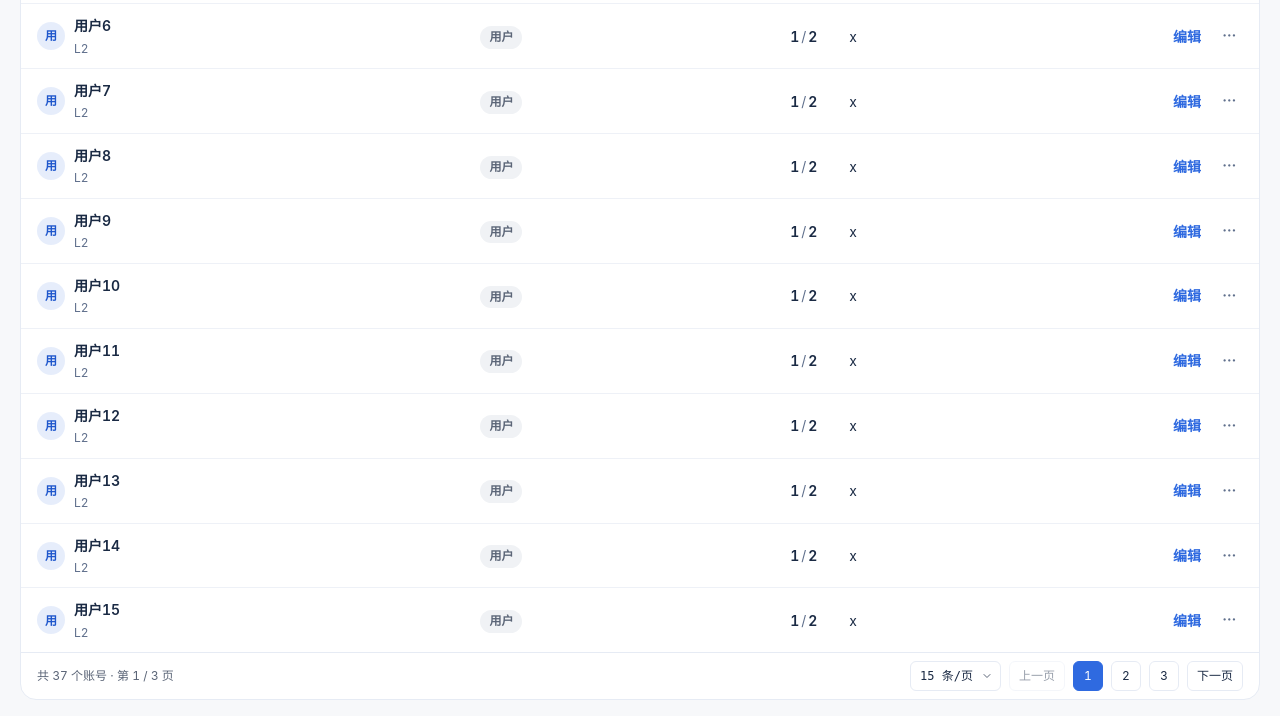
Test case: Users 客户端分页（mk-pagination） › 翻页：第 2 页整页切片（第 16-30 行，无第 1 页残留）
This screenshot has width=1280, height=716.
(page scrolled)
What coordinates should you click on to do the following:
click the button "下一页"
I would click on:
 (1215, 676)
Its box is [1187,661,1243,691].
(page scrolled)
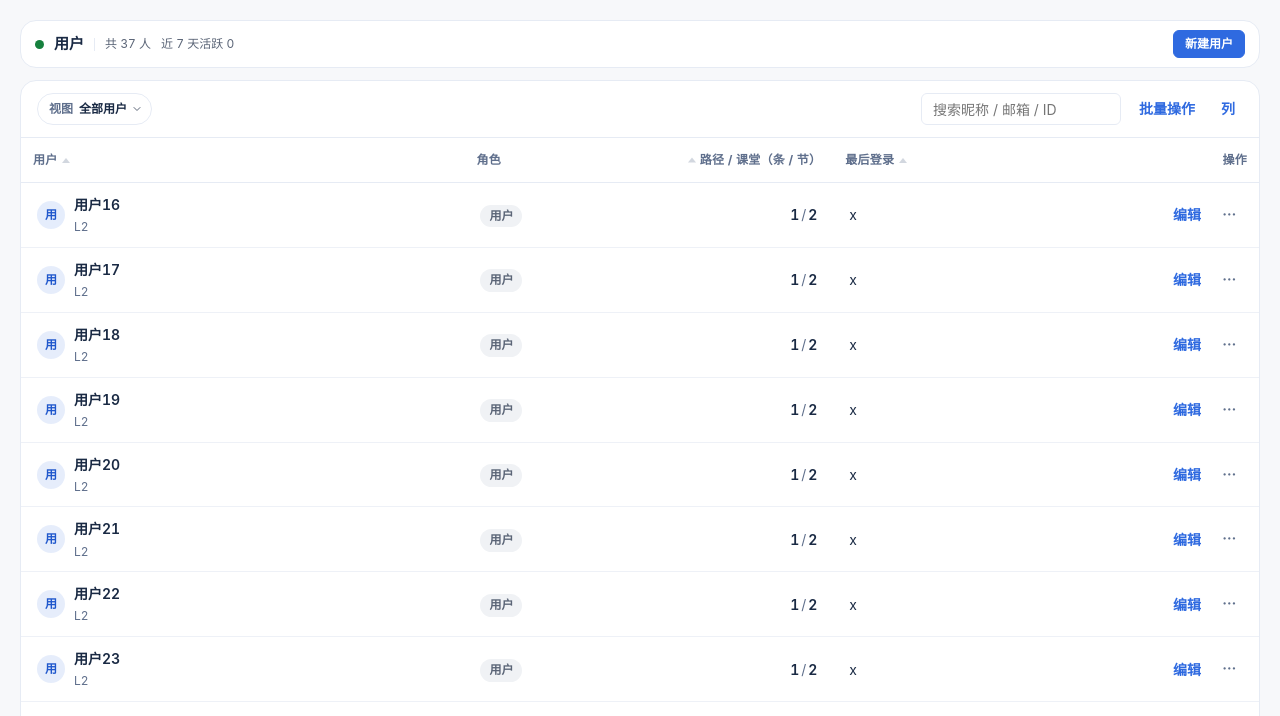
expect the row "用 用户16 L2 用户 1/2 x 编辑 ⋯" is shown: met, box [21,182,1259,247]
